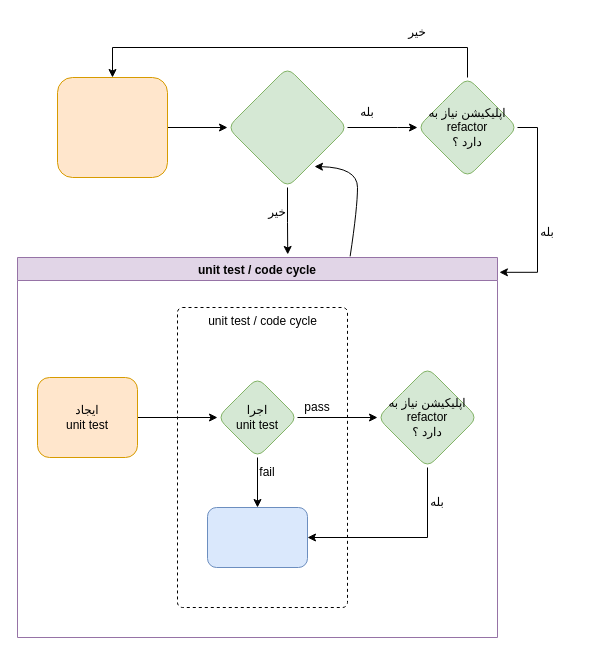
Image size: 595x655. Some labels were removed from this diagram. The centre of each missing label's shape, as x and y in pixels:
"اجرای تست عملکرد. آیا به درستی pass میشوند؟" belongs at point (287, 127).
"ایجاد تست های عملکرد" belongs at point (112, 127).
"توسعه قطعه کد" belongs at point (257, 537).
